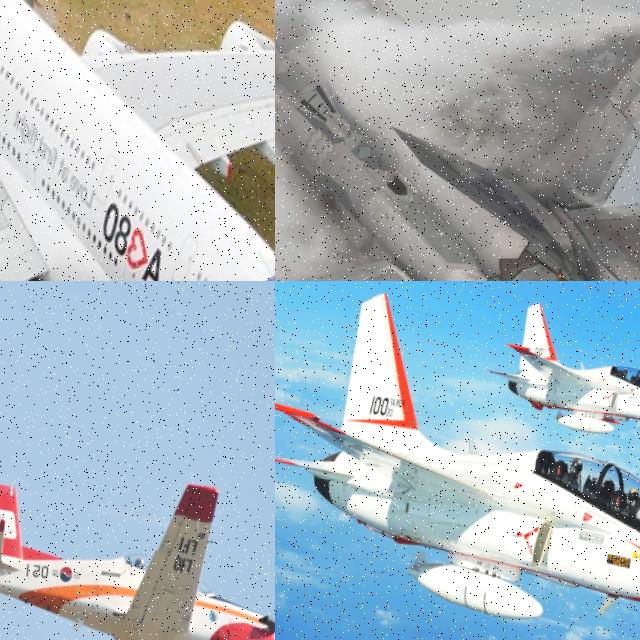A380: (0, 0, 275, 281)
F22: (275, 0, 640, 281)
KT-1: (275, 281, 640, 640), (0, 452, 275, 640), (479, 287, 640, 445)
